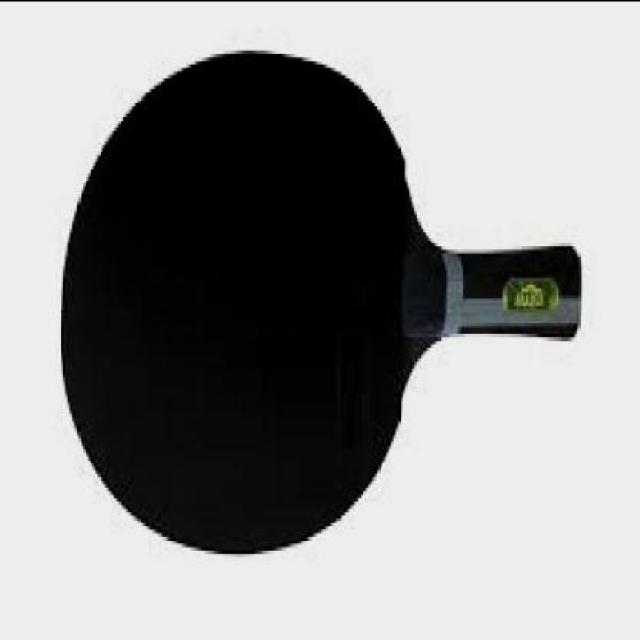table_tennis_racket: (60, 51, 583, 557)
